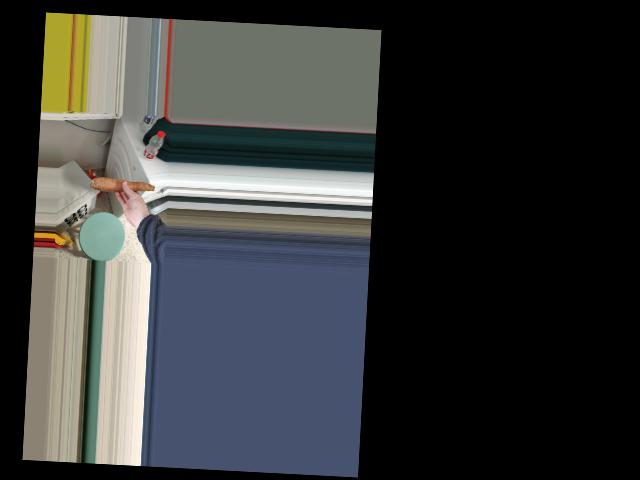sweet_potato: (91, 175, 156, 199)
